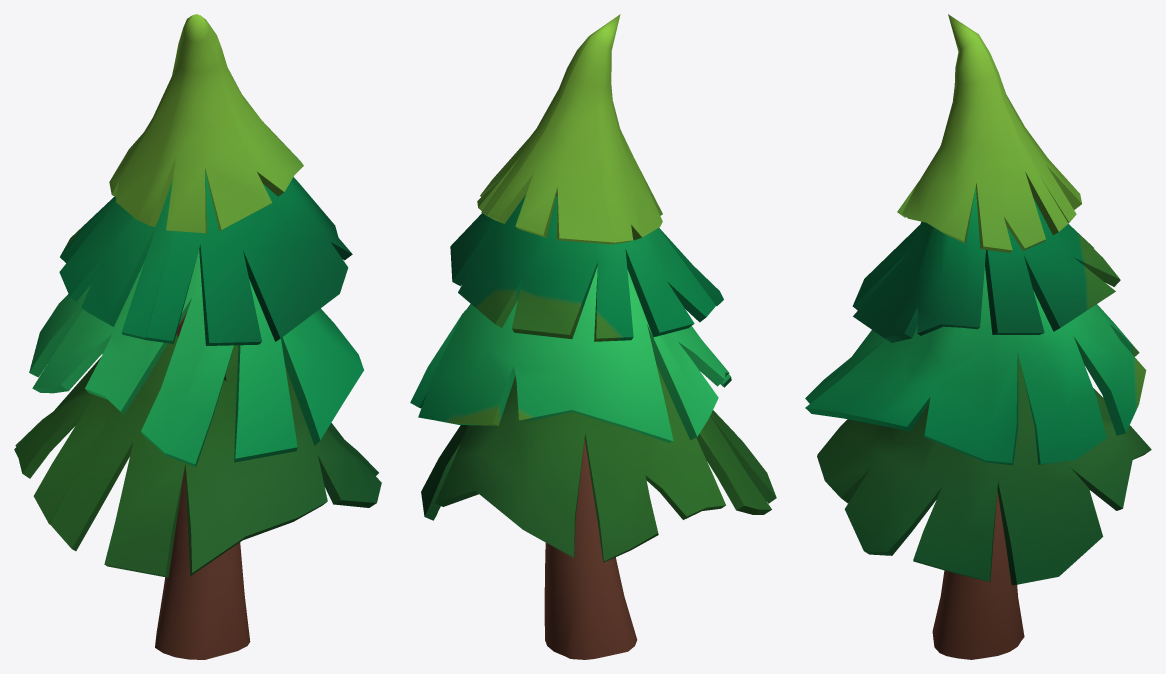
Rendered from Arbol1_v2.fbx.
3 renders of one model, left to right at view 1: azimuth 30°, elevation 25°; view 2: azimuth 150°, elevation 25°; view 3: azimuth 270°, elevation 25°, orthographic. The views are drawn at different scales.
Visible parts, largest first — view 1: Arbol1; view 2: Arbol1; view 3: Arbol1.
Part boxes in pixels (left/top/right/bottom): Arbol1: left=14, top=14, right=381, bottom=659; Arbol1: left=410, top=14, right=776, bottom=659; Arbol1: left=805, top=14, right=1151, bottom=659.
Size of the model in its own units: 3.69 by 7.02 by 3.58.
